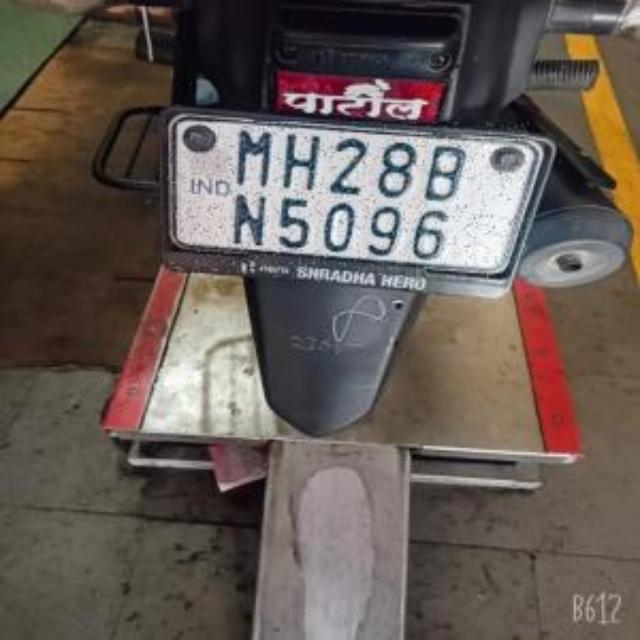License Plate: (168, 123, 529, 281)
